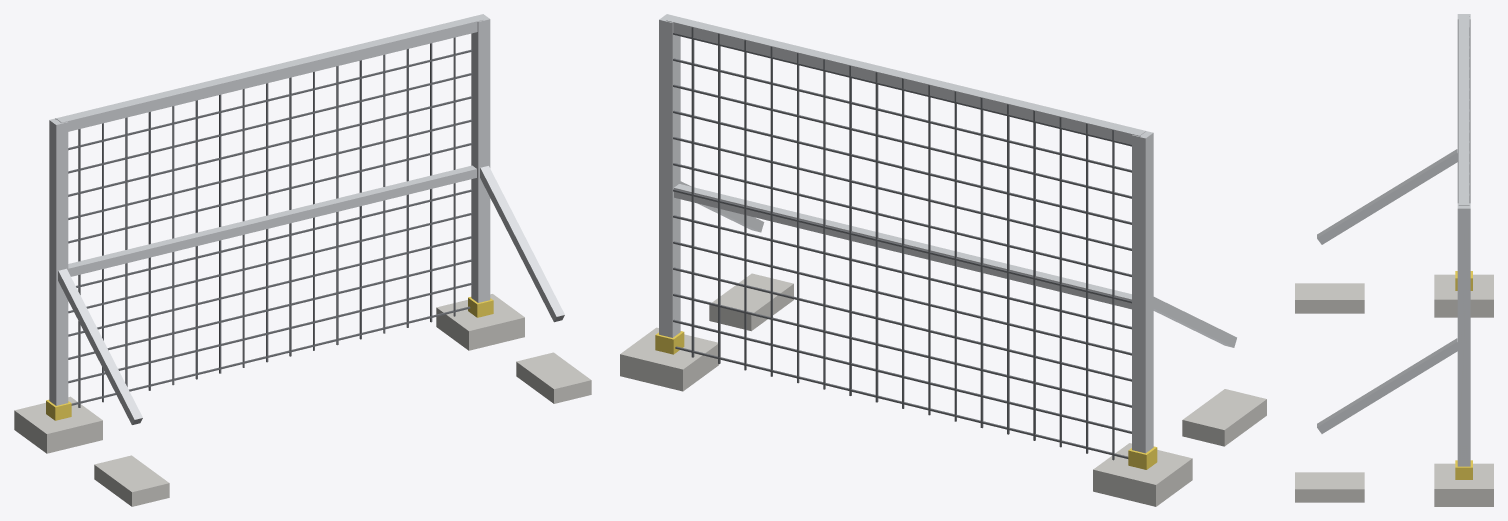
Rendered from rocket-launch-pad-and-gantry-debris-catch-net-frame-c2aaf7b5__38211.glb.
3 views of the same model, side by side, from view 1: azimuth 30°, elevation 25°; view 2: azimuth 150°, elevation 25°; view 3: azimuth 270°, elevation 25° (orthographic). The views are drawn at different scales.
Visible parts, largest first — view 1: debris-catch-net-frame; view 2: debris-catch-net-frame; view 3: debris-catch-net-frame.
Boxes of the visible parts, <box> form: debris-catch-net-frame: <box>14,14,591,506</box>; debris-catch-net-frame: <box>620,14,1266,506</box>; debris-catch-net-frame: <box>1295,14,1493,506</box>.
Size of the model in its own units: 10.2 by 6.41 by 4.
